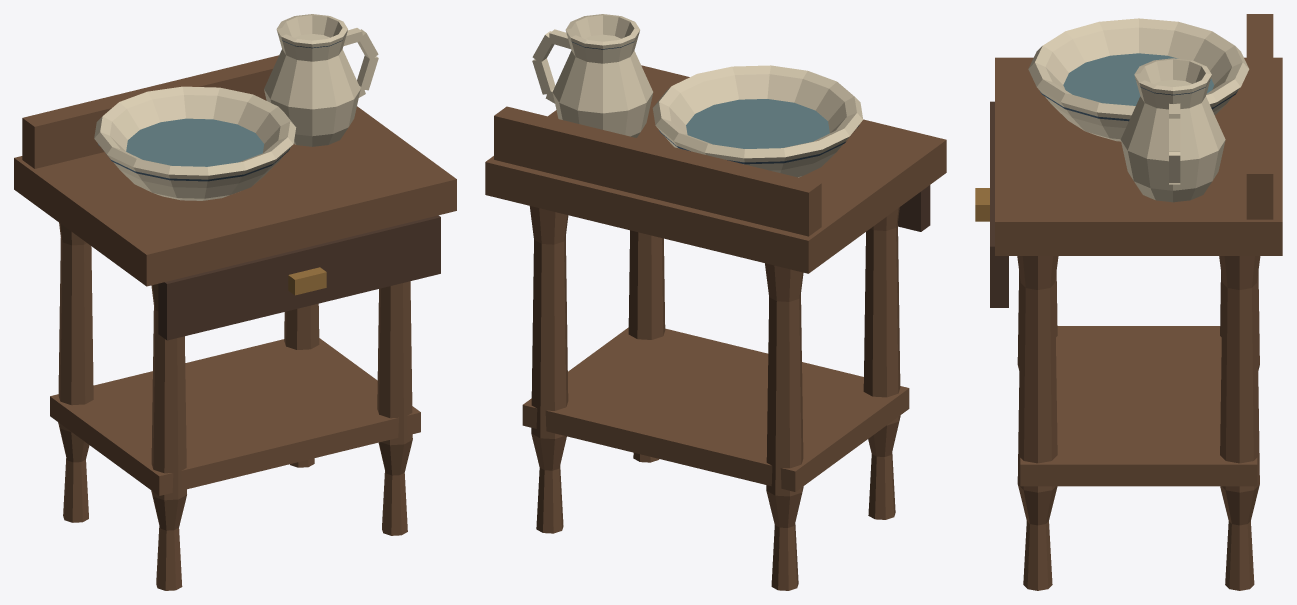
Rendered from room04_washstand.glb.
3 renders of one model, left to right at view 1: azimuth 30°, elevation 25°; view 2: azimuth 150°, elevation 25°; view 3: azimuth 270°, elevation 25°, orthographic. The views are drawn at different scales.
Visible parts, largest first — view 1: room04_washstand; view 2: room04_washstand; view 3: room04_washstand.
Part boxes in pixels (x1=…): room04_washstand: x1=14, y1=14, x2=456, y2=590; room04_washstand: x1=485, y1=14, x2=946, y2=590; room04_washstand: x1=975, y1=14, x2=1282, y2=590.
Bounding box in the file's own units: 0.7754 × 1.1 × 0.609.
